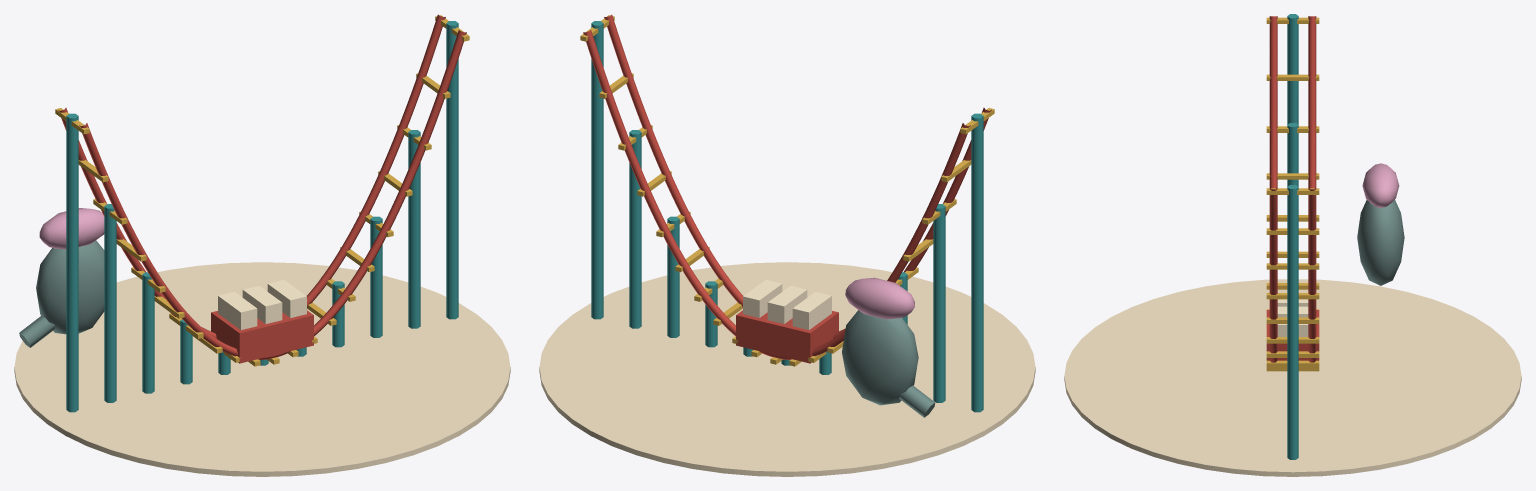
File: rex.glb
3 renders of one model, left to right at view 1: azimuth 30°, elevation 25°; view 2: azimuth 150°, elevation 25°; view 3: azimuth 270°, elevation 25°, orthographic. The views are drawn at different scales.
Bounding box in the file's own units: 5.2 × 3.51 × 5.2.
